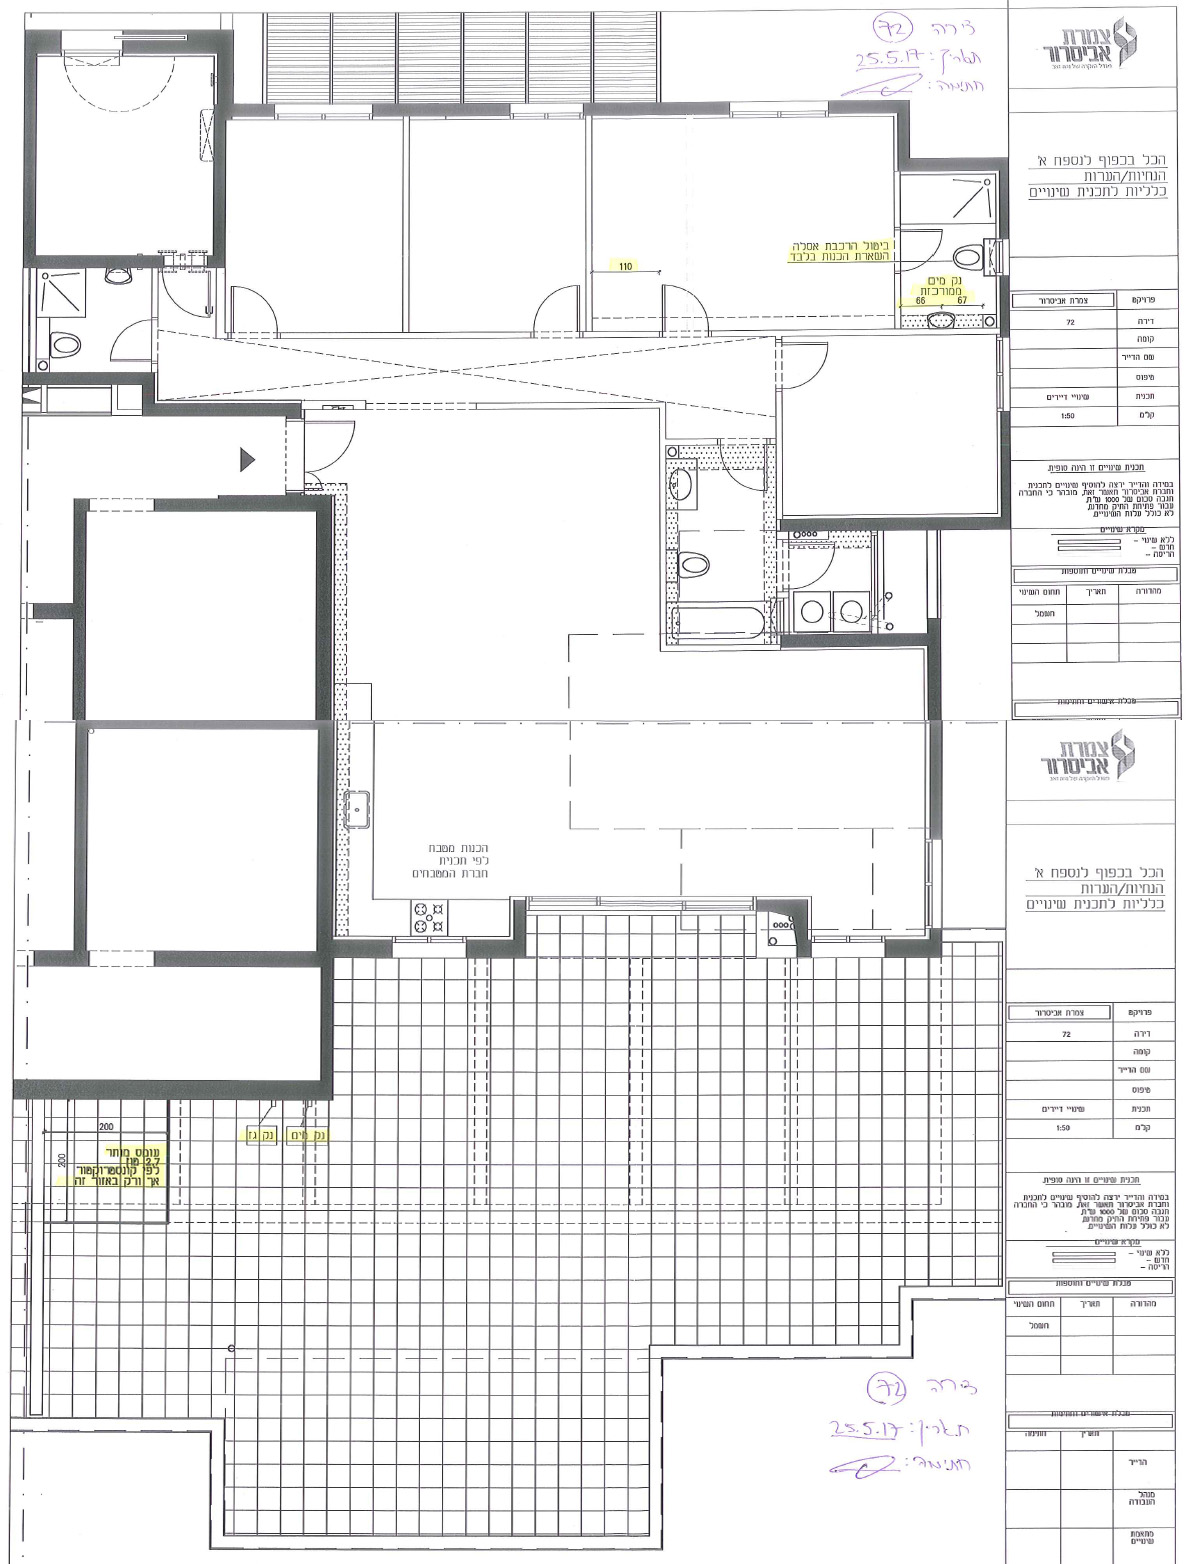door: (785, 538, 845, 592), (783, 337, 841, 391), (526, 280, 585, 329), (657, 282, 716, 331), (225, 283, 283, 329), (902, 225, 948, 283), (105, 316, 150, 367)
wall: (925, 632, 943, 836), (318, 733, 333, 965), (317, 496, 331, 721), (74, 497, 88, 720), (74, 724, 88, 947), (23, 33, 36, 255), (214, 109, 224, 268)
window: (523, 894, 756, 917), (274, 101, 369, 124), (730, 99, 829, 119), (64, 28, 123, 58), (510, 100, 580, 124), (391, 935, 465, 958), (925, 836, 943, 925), (810, 935, 883, 957), (995, 339, 1012, 416), (980, 238, 1010, 278)
